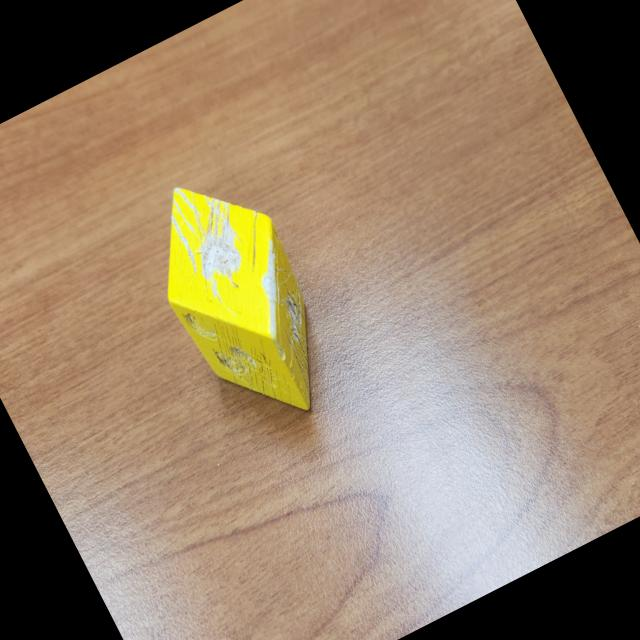broken: (125, 155, 356, 445)
